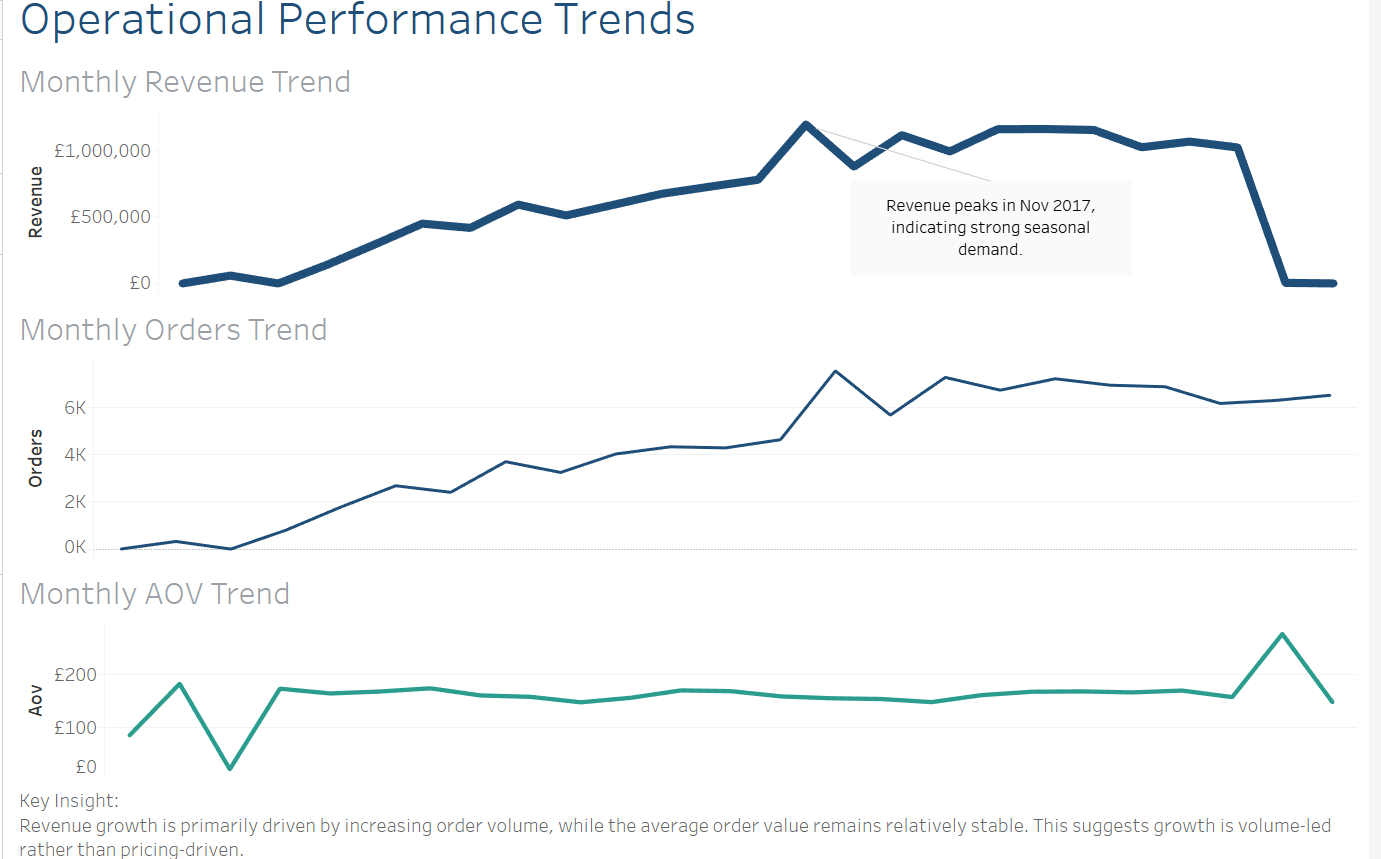

The dashboard page shown, as its layout file describes it:
{"tool":"tableau","page":{"name":"Dashboard 4","canvas":[1366,768],"ordinal":3},"visuals":[{"type":"text","box":[8,8,1350,102]},{"type":"worksheet","title":"Orders_Trend","mark":"Line","rows":["total_orders"],"cols":["year_month"],"box":[8,110,405.4,530]},{"type":"worksheet","title":"KPI_Revenue_Trend","mark":"Line","rows":["revenue"],"cols":["year_month"],"box":[413.4,110,498.8,530]},{"type":"worksheet","title":"AOV_Trend","mark":"Line","rows":["aov"],"cols":["year_month"],"box":[912.2,110,444.8,530]},{"type":"text","box":[8,640,1350,120]}]}

Visuals, with their boxes on the page's 1366x768 design canvas (x1, y1, x2, y2). These are canvas units, not pixel positions in the 1381x859 screenshot, which may show the page scaled, cropped or inside an application window:
text: x1=8, y1=8, x2=1358, y2=110
"Orders_Trend" worksheet (Line marks): x1=8, y1=110, x2=413, y2=640
"KPI_Revenue_Trend" worksheet (Line marks): x1=413, y1=110, x2=912, y2=640
"AOV_Trend" worksheet (Line marks): x1=912, y1=110, x2=1357, y2=640
text: x1=8, y1=640, x2=1358, y2=760
